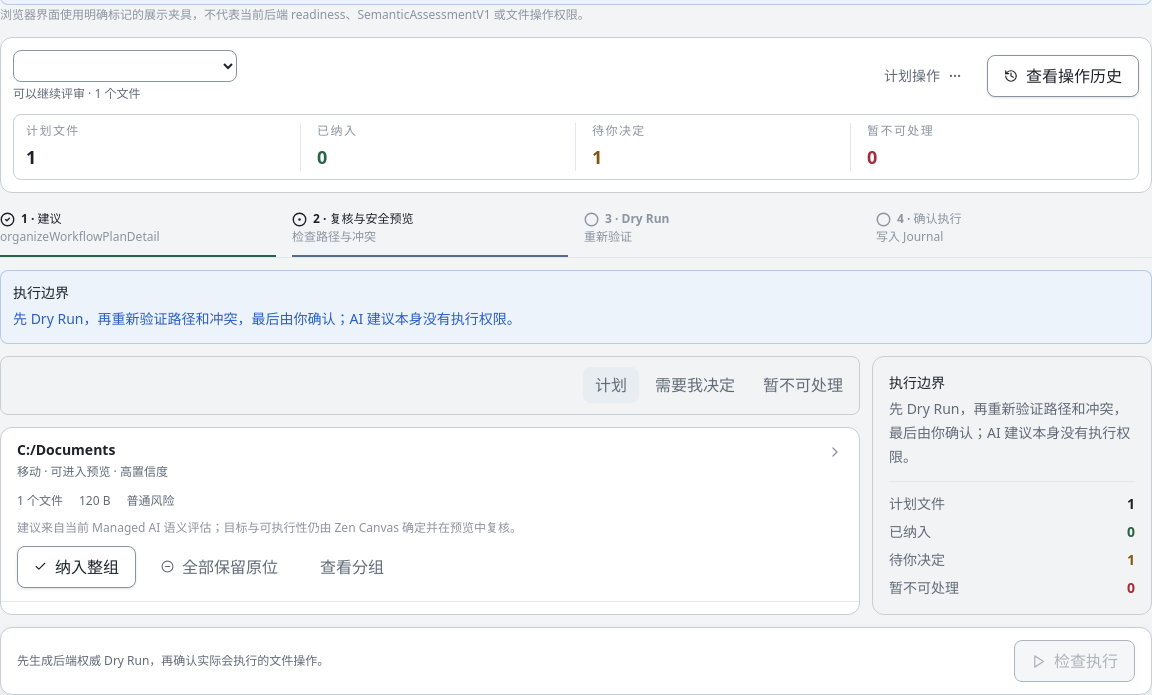
Test case: Organize independent review behavior › keeps an unavailable group action from refreshing or showing optimistic success
(page scrolled)
Step 1. Click the button "纳入整组" → (76, 567), box [17, 546, 136, 588]
(page scrolled)
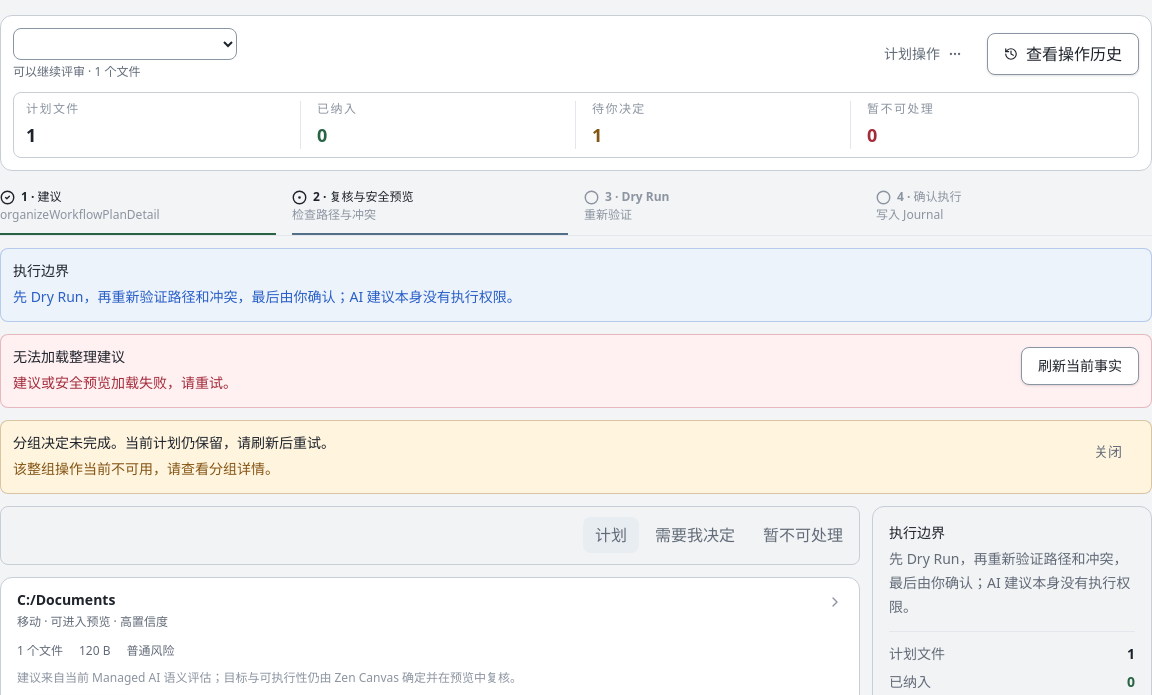
Check: the element with id "test-root" shows "该整组操作当前不可用，请查看分组详情。", box [13, 459, 279, 478]
